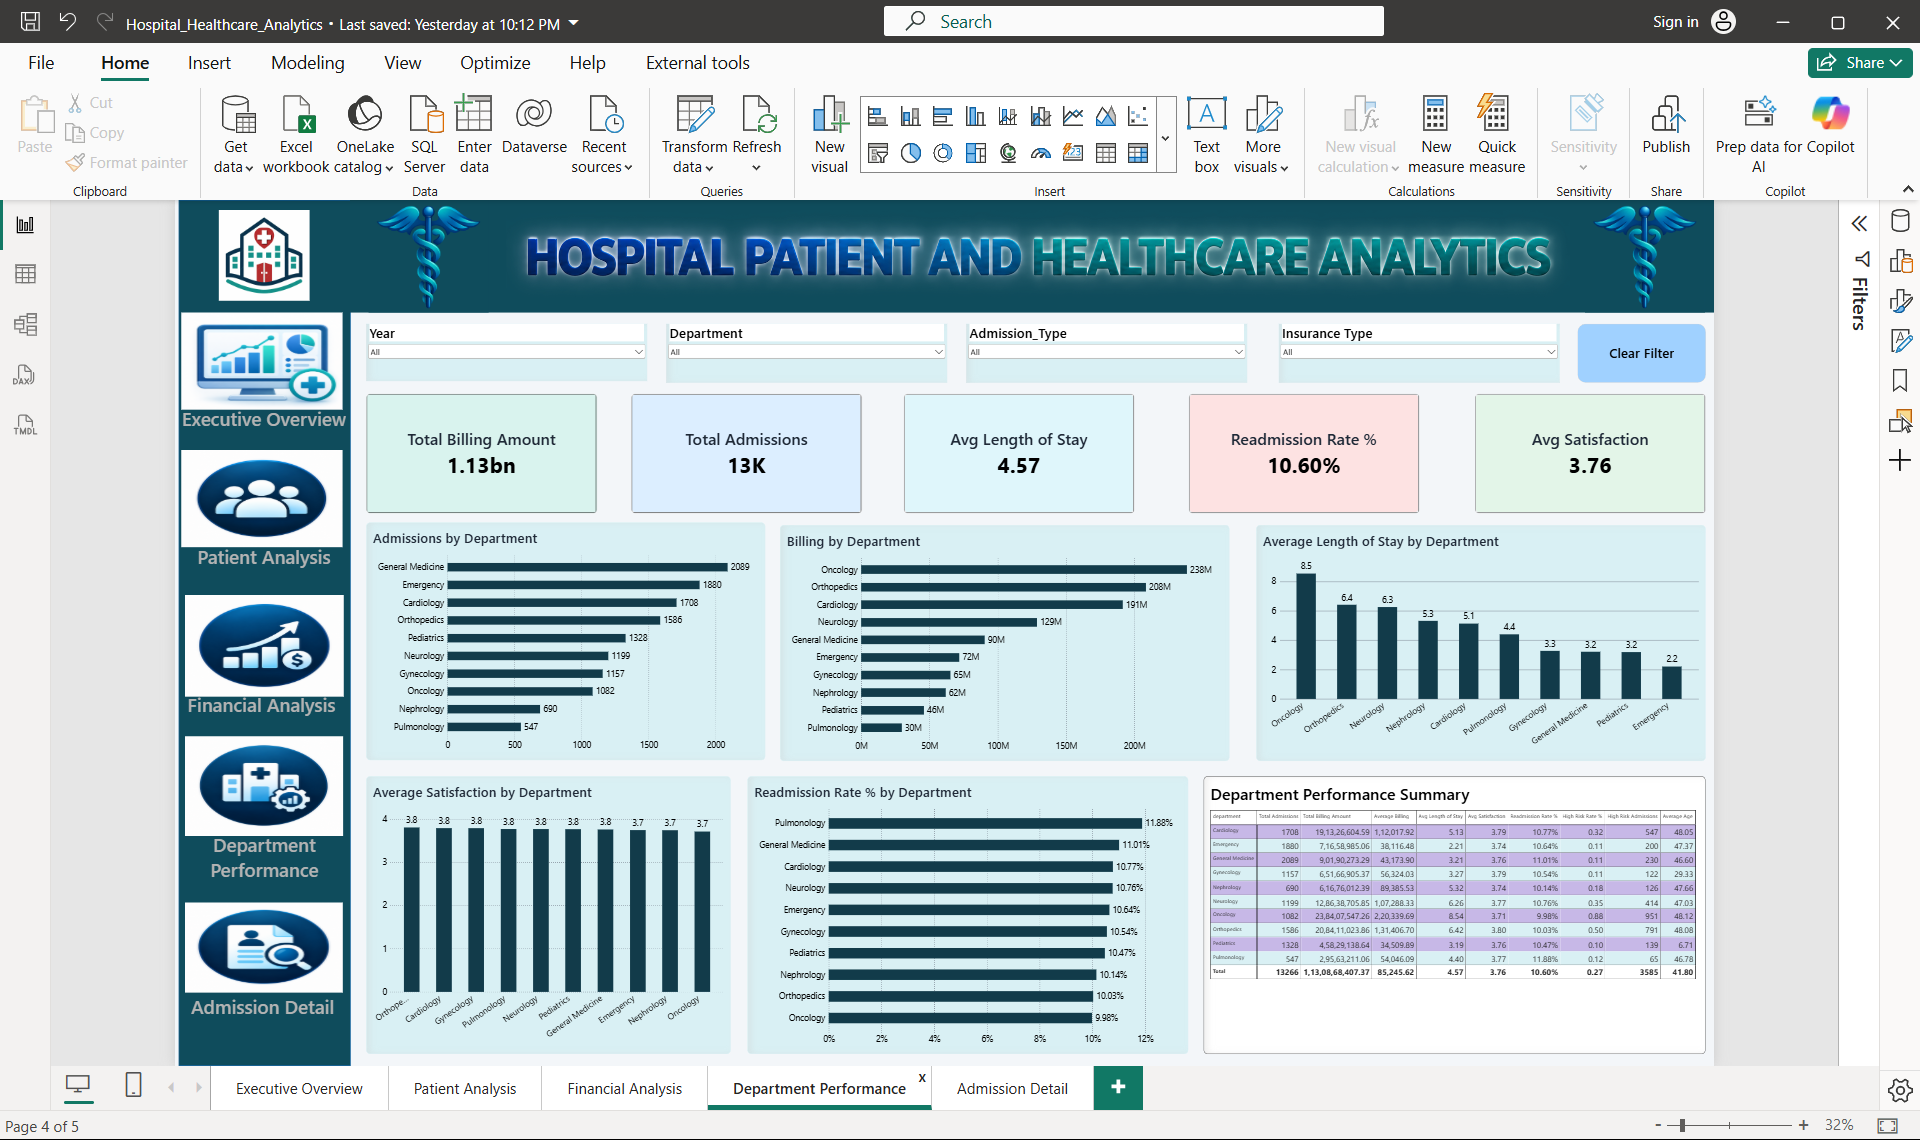

The page's visual inventory and layout, read from the dashboard file:
{"tool":"powerbi","page":{"name":"Department Performance","canvas":[3840,2160],"ordinal":3},"visuals":[{"type":"image","box":[15.9,281.3,402.5,242.4],"z":0,"group":"g1"},{"type":"cardVisual","title":"Total Revenue","fields":{"Data":["hospital_admissions_cleaned.Total Billing Amount"]},"box":[476.1,484.8,575.7,298.7],"z":0},{"type":"image","box":[15.9,622.1,402.5,242.4],"z":0,"group":"g2"},{"type":"image","box":[23,986.4,396.1,253.4],"z":0,"group":"g3"},{"type":"image","box":[26,1338.4,394.4,248.6],"z":0,"group":"g4"},{"type":"image","box":[26,1751.9,393.9,225.1],"z":0,"group":"g5"},{"type":"actionButton","box":[4.3,282.5,437.2,303],"z":1000,"group":"g1"},{"type":"cardVisual","title":"Total Revenue","fields":{"Data":["hospital_admissions_cleaned.Avg Length of Stay"]},"box":[1817.9,484.8,575.7,298.7],"z":1000},{"type":"actionButton","box":[4.3,623.3,437.2,303],"z":1000,"group":"g2"},{"type":"actionButton","box":[-4.3,982.5,437.2,316],"z":1000,"group":"g3"},{"type":"actionButton","box":[0,1320.1,445.8,389.5],"z":1000,"group":"g4"},{"type":"actionButton","box":[0,1731.3,437.2,320.3],"z":1000,"group":"g5"},{"type":"cardVisual","title":"Total Revenue","fields":{"Data":["hospital_admissions_cleaned.Total Admissions"]},"box":[1138.3,484.8,575.7,298.7],"z":2000},{"type":"cardVisual","title":"Total Revenue","fields":{"Data":["hospital_admissions_cleaned.Avg Satisfaction"]},"box":[3241.9,484.8,575.7,298.7],"z":3000},{"type":"pivotTable","title":"Department Performance Summary","fields":{"Rows":["hospital_admissions_cleaned.department"],"Values":["hospital_admissions_cleaned.Total Admissions","hospital_admissions_cleaned.Total Billing Amount","hospital_admissions_cleaned.Average Billing","hospital_admissions_cleaned.Avg Length of Stay","hospital_admissions_cleaned.Avg Satisfaction","hospital_admissions_cleaned.Readmission Rate %","hospital_admissions_cleaned.High Risk Rate %","hospital_admissions_cleaned.High Risk Admissions","hospital_admissions_cleaned.Average Age"]},"box":[2566.7,1437,1250.9,692.5],"z":4000},{"type":"clusteredBarChart","title":"Readmission Rate % by Department","fields":{"Category":["hospital_admissions_cleaned.department"],"Y":["hospital_admissions_cleaned.Readmission Rate %"]},"box":[1428.3,1437,1099.4,692.5],"z":5000},{"type":"clusteredColumnChart","title":"Average Length of Stay by Department","fields":{"Category":["hospital_admissions_cleaned.department"],"Y":["hospital_admissions_cleaned.Avg Length of Stay"]},"box":[2696.5,809.4,1121,588.6],"z":6000},{"type":"clusteredBarChart","title":"Billing by Department","fields":{"Category":["hospital_admissions_cleaned.department"],"Y":["hospital_admissions_cleaned.Total Billing Amount"]},"box":[1510.6,809.4,1121,588.6],"z":7000},{"type":"clusteredColumnChart","title":"Average Satisfaction by Department","fields":{"Y":["hospital_admissions_cleaned.Avg Satisfaction"],"Category":["hospital_admissions_cleaned.department"]},"box":[476.1,1437,908.9,692.5],"z":8000},{"type":"clusteredBarChart","title":"Admissions by Department","fields":{"Category":["hospital_admissions_cleaned.department"],"Y":["hospital_admissions_cleaned.Total Admissions"]},"box":[476.1,805.1,995.5,593],"z":9000},{"type":"cardVisual","title":"Total Revenue","fields":{"Data":["hospital_admissions_cleaned.Readmission Rate %"]},"box":[2527.7,484.8,575.7,298.7],"z":10000},{"type":"shape","box":[8.7,0,428.5,2159.8],"z":11000},{"type":"textbox","box":[437.2,0,3402,281],"z":12000},{"type":"slicer","fields":{"Values":["hospital_admissions_cleaned.insurance_type"]},"box":[2752.8,307.3,701.2,147.2],"z":13000},{"type":"slicer","fields":{"Values":["hospital_admissions_cleaned.admission_type"]},"box":[1973.7,307.3,701.2,147.2],"z":14000},{"type":"slicer","fields":{"Values":["hospital_admissions_cleaned.department"]},"box":[1224.9,307.3,701.2,147.2],"z":15000},{"type":"slicer","fields":{"Values":["hospital_admissions_cleaned.admission_date.Variation.Date Hierarchy.Year"]},"box":[476.1,307.3,701.2,142.8],"z":16000},{"type":"actionButton","box":[3497.3,307.3,320.3,147.2],"z":17000},{"type":"group","id":"g1","title":"Group 1","box":[4.3,281.3,437.2,303],"z":18000},{"type":"group","id":"g2","title":"Group 2","box":[4.3,622.1,437.2,304.2],"z":19000},{"type":"group","id":"g3","title":"Group 3","box":[-4.3,982.5,437.2,316],"z":20000},{"type":"group","id":"g4","title":"Group 4","box":[0,1320.1,445.8,389.5],"z":21000},{"type":"group","id":"g5","title":"Group 5","box":[0,1731.3,437.2,320.3],"z":22000},{"type":"image","box":[71.9,25.2,302,226.5],"z":23000},{"type":"image","box":[827,25.2,2653.5,226.5],"z":23001},{"type":"image","box":[481.8,0,298.4,280.4],"z":23002},{"type":"image","box":[3516.4,0,298.4,280.4],"z":23003}]}

Visuals, with their boxes on the page's 3840x2160 design canvas (x1, y1, x2, y2). These are canvas units, not pixel positions in the 1920x1140 screenshot, which may show the page scaled, cropped or inside an application window:
image: bbox=[16, 281, 418, 524]
"Total Revenue" cardVisual: bbox=[476, 485, 1052, 784]
image: bbox=[16, 622, 418, 864]
image: bbox=[23, 986, 419, 1240]
image: bbox=[26, 1338, 420, 1587]
image: bbox=[26, 1752, 420, 1977]
actionButton: bbox=[4, 282, 442, 586]
"Total Revenue" cardVisual: bbox=[1818, 485, 2394, 784]
actionButton: bbox=[4, 623, 442, 926]
actionButton: bbox=[-4, 982, 433, 1298]
actionButton: bbox=[0, 1320, 446, 1710]
actionButton: bbox=[0, 1731, 437, 2052]
"Total Revenue" cardVisual: bbox=[1138, 485, 1714, 784]
"Total Revenue" cardVisual: bbox=[3242, 485, 3818, 784]
"Department Performance Summary" pivotTable: bbox=[2567, 1437, 3818, 2130]
"Readmission Rate % by Department" clusteredBarChart: bbox=[1428, 1437, 2528, 2130]
"Average Length of Stay by Department" clusteredColumnChart: bbox=[2696, 809, 3818, 1398]
"Billing by Department" clusteredBarChart: bbox=[1511, 809, 2632, 1398]
"Average Satisfaction by Department" clusteredColumnChart: bbox=[476, 1437, 1385, 2130]
"Admissions by Department" clusteredBarChart: bbox=[476, 805, 1472, 1398]
"Total Revenue" cardVisual: bbox=[2528, 485, 3103, 784]
shape: bbox=[9, 0, 437, 2160]
textbox: bbox=[437, 0, 3839, 281]
slicer - hospital_admissions_cleaned.insurance_type: bbox=[2753, 307, 3454, 454]
slicer - hospital_admissions_cleaned.admission_type: bbox=[1974, 307, 2675, 454]
slicer - hospital_admissions_cleaned.department: bbox=[1225, 307, 1926, 454]
slicer - hospital_admissions_cleaned.admission_date.Variation.Date Hierarchy.Year: bbox=[476, 307, 1177, 450]
actionButton: bbox=[3497, 307, 3818, 454]
"Group 1" group: bbox=[4, 281, 442, 584]
"Group 2" group: bbox=[4, 622, 442, 926]
"Group 3" group: bbox=[-4, 982, 433, 1298]
"Group 4" group: bbox=[0, 1320, 446, 1710]
"Group 5" group: bbox=[0, 1731, 437, 2052]
image: bbox=[72, 25, 374, 252]
image: bbox=[827, 25, 3480, 252]
image: bbox=[482, 0, 780, 280]
image: bbox=[3516, 0, 3815, 280]
